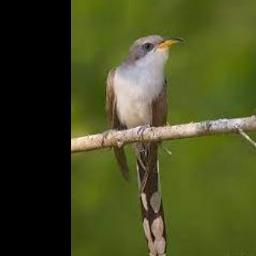Cuckoo: (107, 35, 185, 256)
